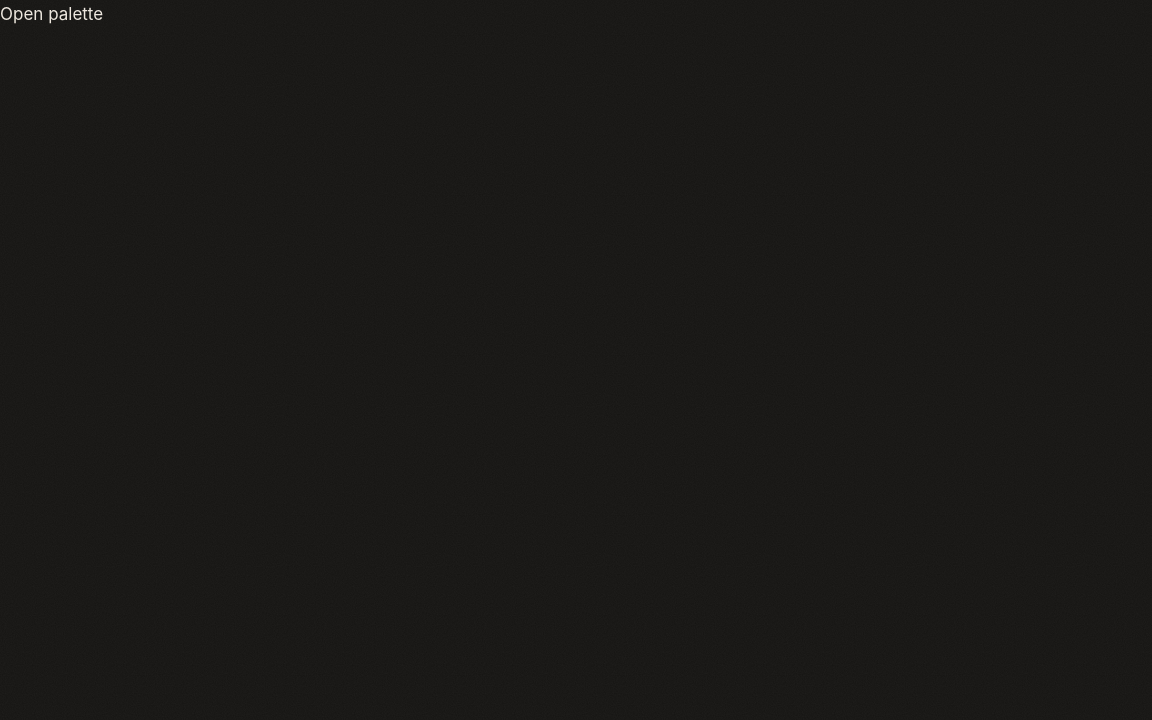
it: Command palette ordering › highlights the first option shown, whatever the ranking
Type keys "{Control>}k{/Control}"
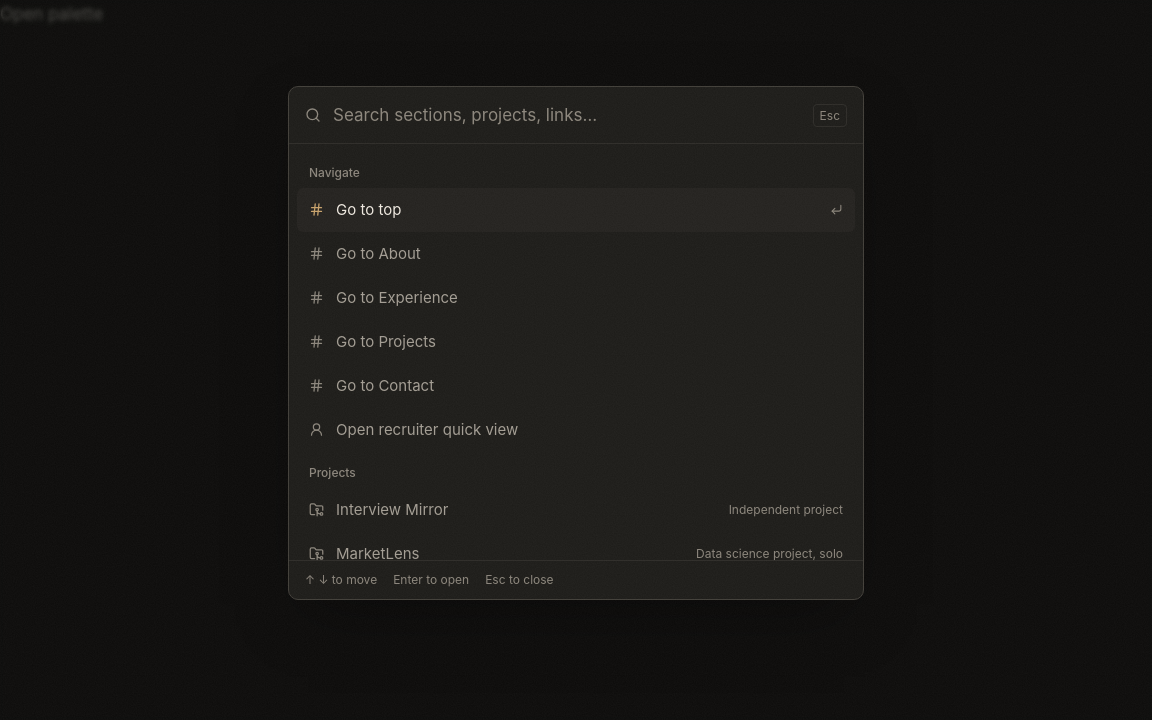
In the dropdown: (567, 115) [333,87,801,143], type "py"
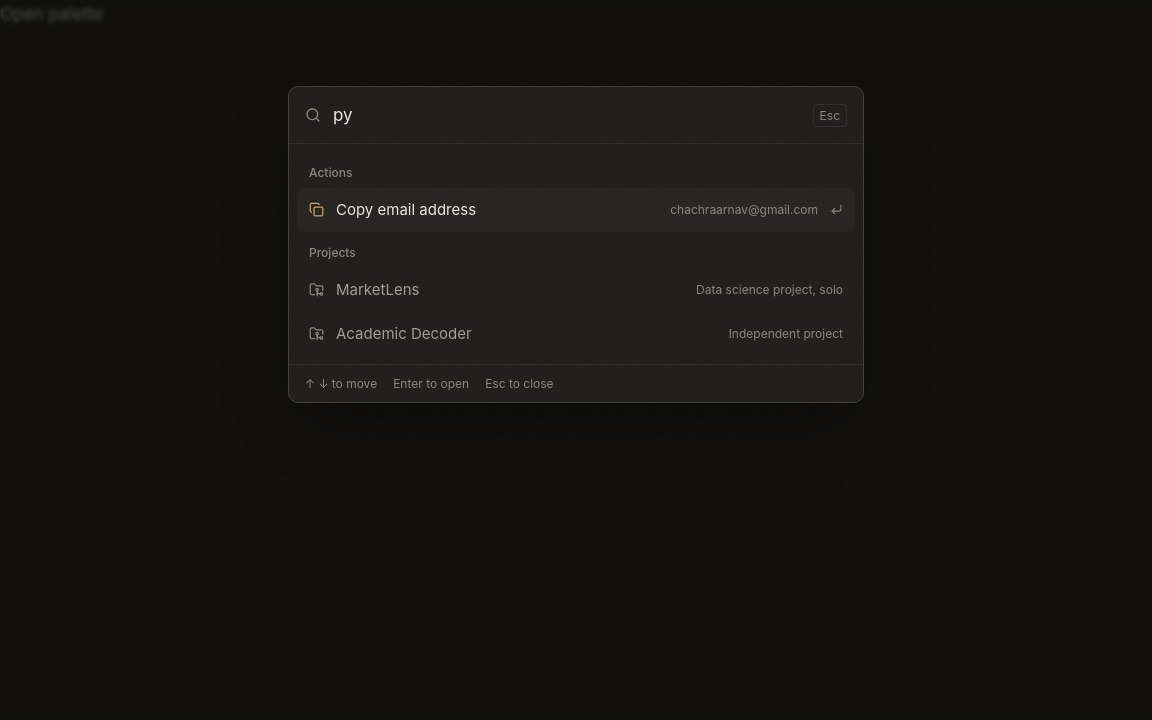
Expected: the option "Copy email address chachraarnav@gmail.com" is shown, [297,188,855,232]
